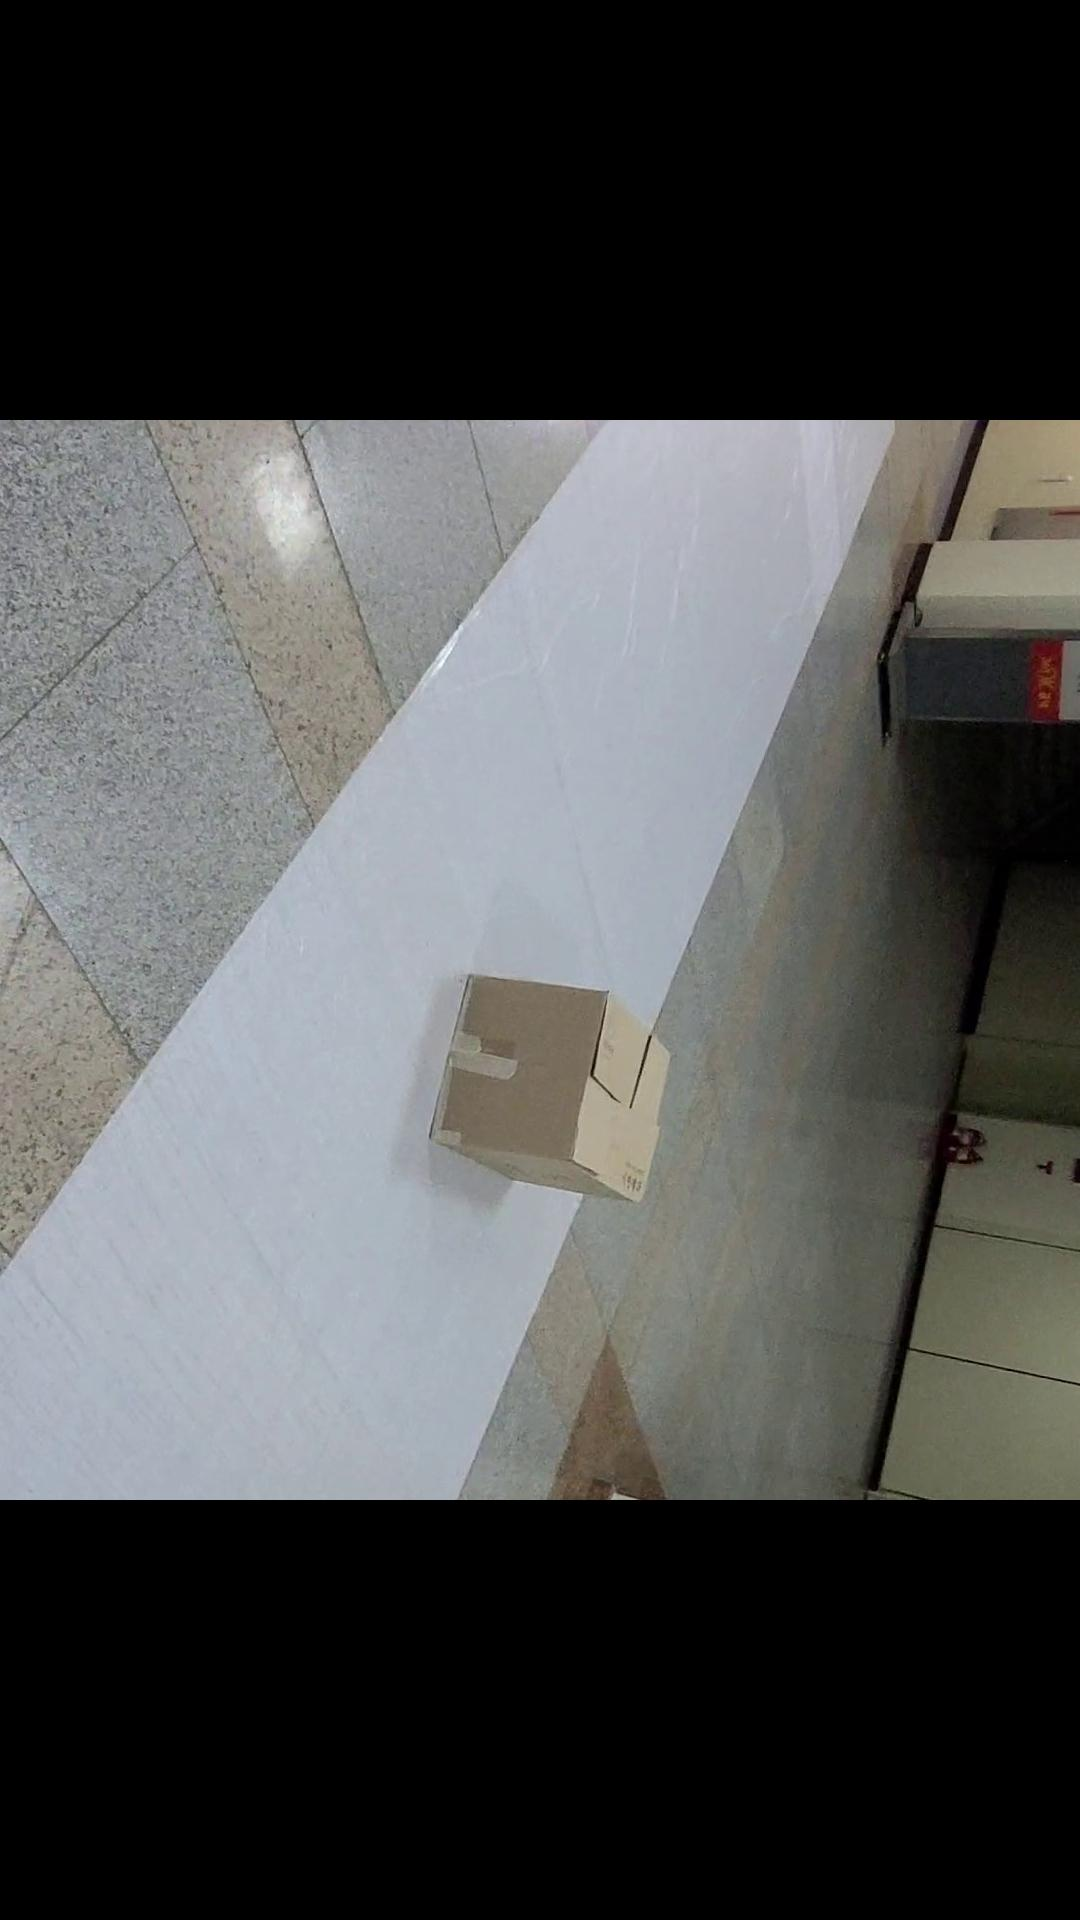Box: (402, 928, 687, 1242)
